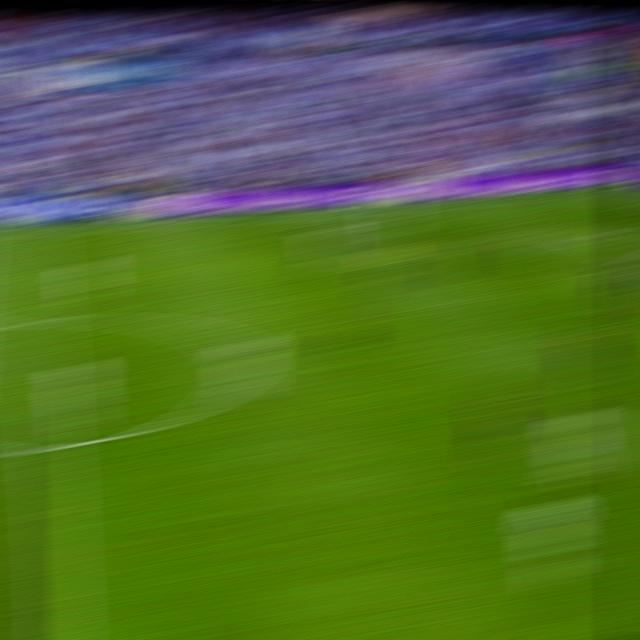bigarea_top_inner: (567, 229, 598, 240)
halfcircle_bottom: (31, 434, 71, 462)
halfcircle_top: (24, 311, 60, 333)
midline_top_intersection: (20, 227, 52, 235)
